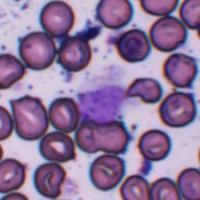L: (75, 76, 127, 124)
